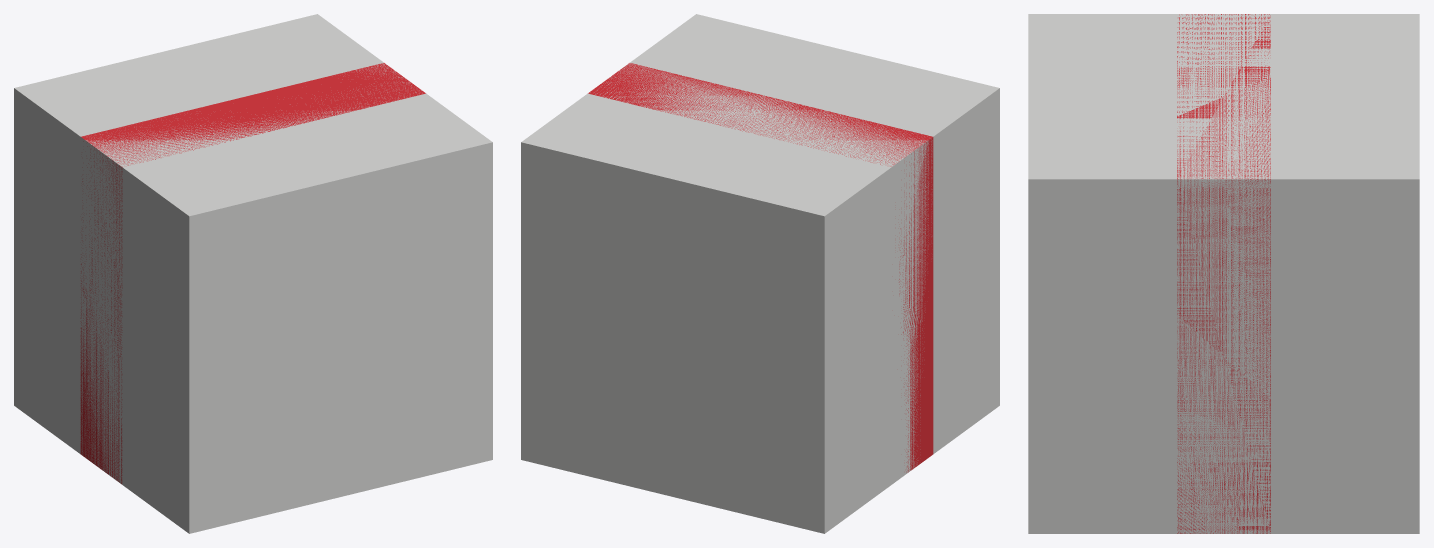
The model's file is paquete.glb.
The picture shows the model from 3 angles, left to right: view 1: azimuth 30°, elevation 25°; view 2: azimuth 150°, elevation 25°; view 3: azimuth 270°, elevation 25°; orthographic projection. The views are drawn at different scales.
Visible parts, largest first — view 1: paquete; view 2: paquete; view 3: paquete.
Part boxes in pixels (<box>): paquete: <box>14,14,492,533</box>; paquete: <box>521,14,999,533</box>; paquete: <box>1028,14,1419,533</box>.
Bounding box in the file's own units: 1 × 1 × 1.
